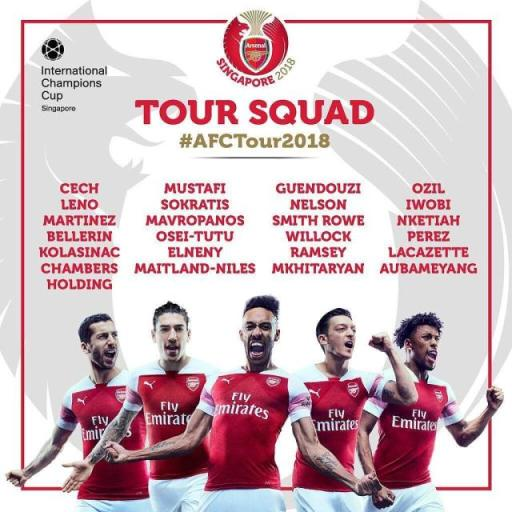Emirates: (212, 390, 271, 422), (309, 406, 360, 436), (81, 415, 134, 442), (390, 407, 438, 435), (143, 400, 192, 427)
